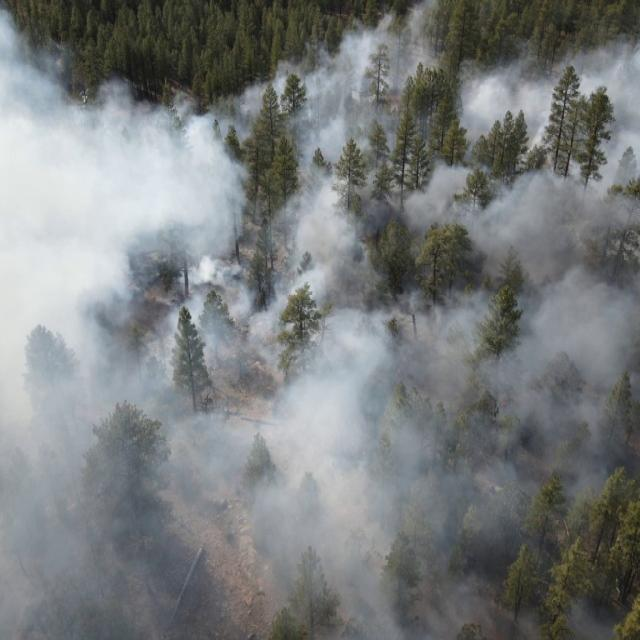smoke: (246, 200, 508, 640), (136, 102, 246, 640), (292, 100, 389, 640), (67, 97, 138, 640), (508, 223, 640, 492), (23, 40, 67, 640), (0, 0, 23, 640), (418, 162, 640, 222), (458, 48, 556, 128), (509, 587, 617, 640), (555, 48, 640, 102), (245, 80, 410, 100), (610, 100, 640, 190), (344, 30, 431, 60), (281, 61, 408, 79), (360, 2, 440, 30), (97, 79, 132, 99)
